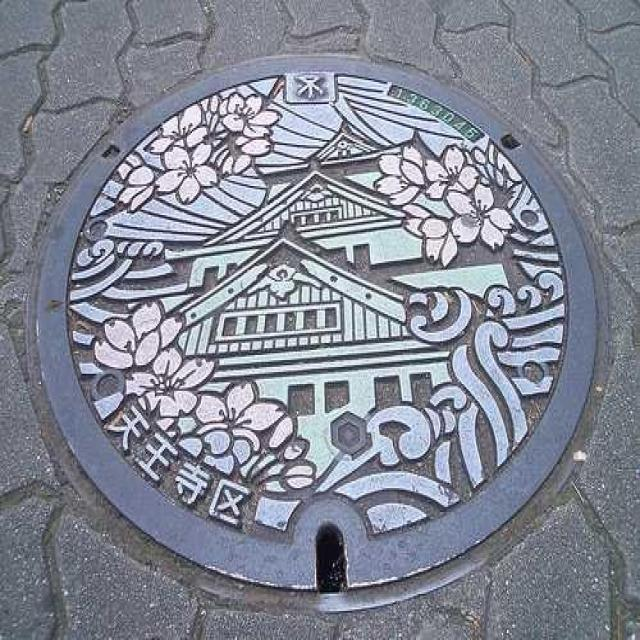manhole: (35, 57, 596, 607)
